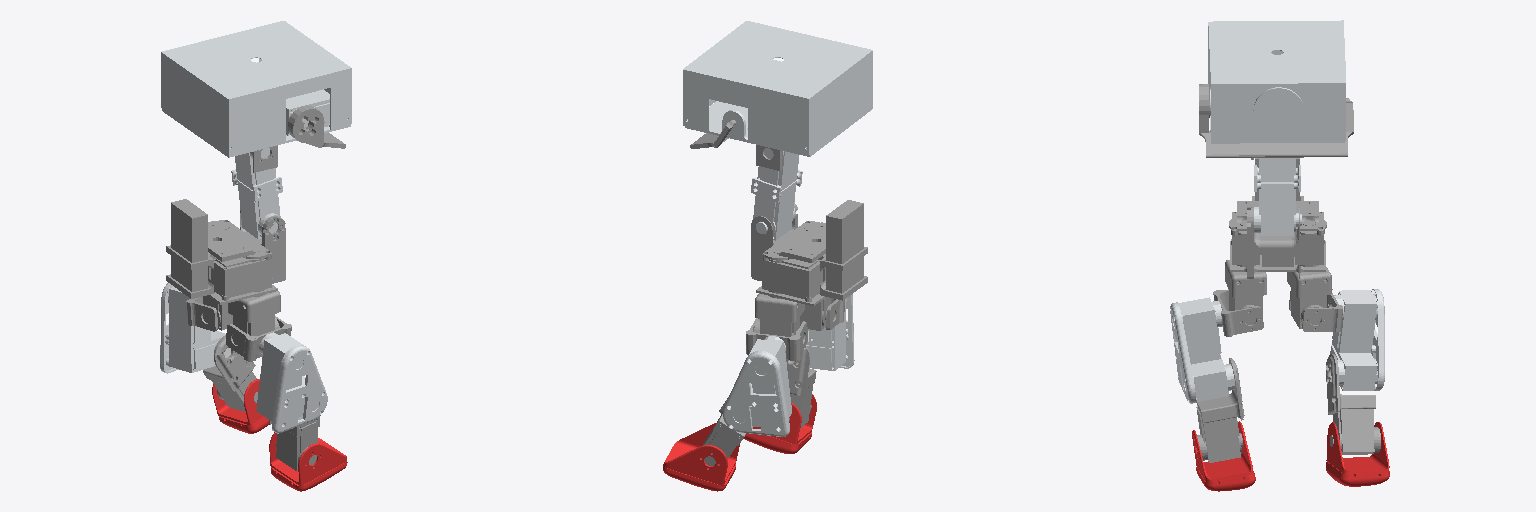
robot.urdf — robot_:
<?xml version="1.0" encoding="utf-8"?>
<!-- Generated by OSURDF v2. Model license is defined by the model owner, not by the exporter. -->
<robot name="robot_">
  <link name="base_link">
    <inertial>
      <origin xyz="-0.0027981325996002671 0.00014366931530087473 0.020069550441856793" rpy="0 0 0" />
      <mass value="0.23252883642757233" />
      <inertia ixx="0.00016455911480864373" ixy="1.7734433291054808E-06" ixz="2.2600997268290155E-05" iyy="0.00012851851896382029" iyz="2.3433907342119782E-07" izz="0.00019694489770403131" />
    </inertial>
    <visual name="visual_0">
      <origin xyz="0 0 0" rpy="0 0 0" />
      <geometry>
        <mesh filename="package://microdick/meshes/visual/base_link.STL" />
      </geometry>
      <material name="material_b2b2b2ff_abf4588548db">
        <color rgba="0.69803999999999999 0.69803999999999999 0.69803999999999999 1" />
      </material>
    </visual>
    <collision name="collision_0">
      <origin xyz="0 0 0" rpy="0 0 0" />
      <geometry>
        <mesh filename="package://microdick/meshes/collision/base_link.STL" />
      </geometry>
    </collision>
  </link>
  <link name="neck">
    <inertial>
      <origin xyz="-0.0037149873663866462 -0.01837873449275202 -0.034434216391090185" rpy="0 0 0" />
      <mass value="0.16015479479011116" />
      <inertia ixx="0.00012488668602107669" ixy="2.2244147246690693E-13" ixz="-1.1395195967814288E-05" iyy="0.00011949454386734541" iyz="-6.2640299665310623E-14" izz="2.0494007123164777E-05" />
    </inertial>
    <visual name="visual_0">
      <origin xyz="0 0 0" rpy="0 0 0" />
      <geometry>
        <mesh filename="package://microdick/meshes/visual/neck.STL" />
      </geometry>
      <material name="material_e5eaedff_d3877c316fea">
        <color rgba="0.89803921568627454 0.91764705882352937 0.92941176470588238 1" />
      </material>
    </visual>
    <collision name="collision_0">
      <origin xyz="0 0 0" rpy="0 0 0" />
      <geometry>
        <mesh filename="package://microdick/meshes/collision/neck.STL" />
      </geometry>
    </collision>
  </link>
  <link name="new_link_4">
    <inertial>
      <origin xyz="-0.0091171086545103197 0.00098361301669069867 0.017456400791831819" rpy="0 0 0" />
      <mass value="0.0026892035488556569" />
      <inertia ixx="8.5943028053864606E-07" ixy="2.0643432918826176E-08" ixz="2.0043519259470153E-08" iyy="1.0485471039865417E-06" iyz="-2.1624253034052715E-09" izz="4.4522135962112589E-07" />
    </inertial>
    <visual name="visual_0">
      <origin xyz="0 0 0" rpy="0 0 0" />
      <geometry>
        <mesh filename="package://microdick/meshes/visual/new_link_4.STL" />
      </geometry>
      <material name="material_b2b2b2ff_cc9c139303fa">
        <color rgba="0.69803921568627447 0.69803921568627447 0.69803921568627447 1" />
      </material>
    </visual>
    <collision name="collision_0">
      <origin xyz="0 0 0" rpy="0 0 0" />
      <geometry>
        <mesh filename="package://microdick/meshes/collision/new_link_4.STL" />
      </geometry>
    </collision>
  </link>
  <link name="new_link_5">
    <inertial>
      <origin xyz="0.018787563017670608 -0.010057010376280325 -0.01221451576685495" rpy="0 0 0" />
      <mass value="0.19226194637422897" />
      <inertia ixx="0.00025131238412232174" ixy="-4.4216178964340382E-06" ixz="-1.5973376526685419E-06" iyy="0.00012624635032599578" iyz="-5.2090163349754212E-05" izz="0.00017321878194592088" />
    </inertial>
    <visual name="visual_0">
      <origin xyz="0 0 0" rpy="0 0 0" />
      <geometry>
        <mesh filename="package://microdick/meshes/visual/new_link_5.STL" />
      </geometry>
      <material name="material_e5eaedff_d3877c316fea">
        <color rgba="0.89803921568627454 0.91764705882352937 0.92941176470588238 1" />
      </material>
    </visual>
    <collision name="collision_0">
      <origin xyz="0 0 0" rpy="0 0 0" />
      <geometry>
        <mesh filename="package://microdick/meshes/collision/new_link_5.STL" />
      </geometry>
    </collision>
  </link>
  <link name="new_link_3">
    <inertial>
      <origin xyz="0.017590903899450838 0.018042256564000173 0.047752548471032899" rpy="0 0 0" />
      <mass value="0.0091276342313920018" />
      <inertia ixx="1.6099569373546537E-05" ixy="-1.2360176018383118E-06" ixz="-2.0380990797062423E-06" iyy="1.6438879942538967E-05" iyz="-2.0132393040382824E-06" izz="2.9634152319143943E-06" />
    </inertial>
    <visual name="visual_0">
      <origin xyz="0 0 0" rpy="0 0 0" />
      <geometry>
        <mesh filename="package://microdick/meshes/visual/new_link_3.STL" />
      </geometry>
      <material name="material_b2b2b2ff_cc9c139303fa">
        <color rgba="0.69803921568627447 0.69803921568627447 0.69803921568627447 1" />
      </material>
    </visual>
    <collision name="collision_0">
      <origin xyz="0 0 0" rpy="0 0 0" />
      <geometry>
        <mesh filename="package://microdick/meshes/collision/new_link_3.STL" />
      </geometry>
    </collision>
  </link>
  <link name="new_link_1">
    <inertial>
      <origin xyz="0.00051086020121493547 6.0033525067504367E-06 0.025212622594666605" rpy="0 0 0" />
      <mass value="0.083260385079896873" />
      <inertia ixx="1.7452236631295005E-05" ixy="5.8182705703960523E-07" ixz="-5.7762099055078847E-07" iyy="2.0612043895591682E-05" iyz="9.652187023765087E-08" izz="1.038025911878853E-05" />
    </inertial>
    <visual name="visual_0">
      <origin xyz="0 0 0" rpy="0 0 0" />
      <geometry>
        <mesh filename="package://microdick/meshes/visual/new_link_1.STL" />
      </geometry>
      <material name="material_b2b2b2ff_cc9c139303fa">
        <color rgba="0.69803921568627447 0.69803921568627447 0.69803921568627447 1" />
      </material>
    </visual>
    <collision name="collision_0">
      <origin xyz="0 0 0" rpy="0 0 0" />
      <geometry>
        <mesh filename="package://microdick/meshes/collision/new_link_1.STL" />
      </geometry>
    </collision>
  </link>
  <link name="new_link">
    <inertial>
      <origin xyz="-0.011940768019766332 -0.021023280358987595 0.0014718896774064683" rpy="0 0 0" />
      <mass value="0.0025473577256657962" />
      <inertia ixx="8.7187164057550288E-07" ixy="4.539614915902574E-08" ixz="1.584623553973534E-08" iyy="3.1779752851824745E-07" iyz="-6.3863852888209887E-09" izz="1.000767202392786E-06" />
    </inertial>
    <visual name="visual_0">
      <origin xyz="0 0 0" rpy="0 0 0" />
      <geometry>
        <mesh filename="package://microdick/meshes/visual/new_link.STL" />
      </geometry>
      <material name="material_b2b2b2ff_cc9c139303fa">
        <color rgba="0.69803921568627447 0.69803921568627447 0.69803921568627447 1" />
      </material>
    </visual>
    <collision name="collision_0">
      <origin xyz="0 0 0" rpy="0 0 0" />
      <geometry>
        <mesh filename="package://microdick/meshes/collision/new_link.STL" />
      </geometry>
    </collision>
  </link>
  <link name="new_link_6">
    <inertial>
      <origin xyz="0.0035494152111712474 0.018833529519988637 0.028483011806818545" rpy="0 0 0" />
      <mass value="0.16337133141234245" />
      <inertia ixx="7.9304211900610487E-05" ixy="5.3596861357863192E-07" ixz="-1.484616651277176E-05" iyy="8.6376886106649239E-05" iyz="-5.7492944118226673E-07" izz="3.5138532424141784E-05" />
    </inertial>
    <visual name="visual_0">
      <origin xyz="0 0 0" rpy="0 0 0" />
      <geometry>
        <mesh filename="package://microdick/meshes/visual/new_link_6.STL" />
      </geometry>
      <material name="material_e5eaedff_d3877c316fea">
        <color rgba="0.89803921568627454 0.91764705882352937 0.92941176470588238 1" />
      </material>
    </visual>
    <collision name="collision_0">
      <origin xyz="0 0 0" rpy="0 0 0" />
      <geometry>
        <mesh filename="package://microdick/meshes/collision/new_link_6.STL" />
      </geometry>
    </collision>
  </link>
  <link name="new_link_7">
    <inertial>
      <origin xyz="0.0051398005486567033 0.041777170511661632 -0.016770834000613938" rpy="0 0 0" />
      <mass value="0.082300356130059635" />
      <inertia ixx="2.1959569252876703E-05" ixy="-1.4042405684559051E-06" ixz="2.0245805881604581E-07" iyy="1.0567856613819219E-05" iyz="1.6669949988952382E-06" izz="1.8366094468213481E-05" />
    </inertial>
    <visual name="visual_0">
      <origin xyz="0 0 0" rpy="0 0 0" />
      <geometry>
        <mesh filename="package://microdick/meshes/visual/new_link_7.STL" />
      </geometry>
      <material name="material_b2b2b2ff_cc9c139303fa">
        <color rgba="0.69803921568627447 0.69803921568627447 0.69803921568627447 1" />
      </material>
    </visual>
    <collision name="collision_0">
      <origin xyz="0 0 0" rpy="0 0 0" />
      <geometry>
        <mesh filename="package://microdick/meshes/collision/new_link_7.STL" />
      </geometry>
    </collision>
  </link>
  <link name="new_link_8">
    <inertial>
      <origin xyz="0.019697669859905384 0.011411206038890009 -0.018071398580237749" rpy="0 0 0" />
      <mass value="0.01830472704709047" />
      <inertia ixx="5.4766022823280582E-06" ixy="2.038844058731755E-09" ixz="-6.4360290809970619E-08" iyy="4.4980169150005137E-06" iyz="6.2324709112049992E-08" izz="7.4026831549939516E-06" />
    </inertial>
    <visual name="visual_0">
      <origin xyz="0 0 0" rpy="0 0 0" />
      <geometry>
        <mesh filename="package://microdick/meshes/visual/new_link_8.STL" />
      </geometry>
      <material name="material_f74242ff_5830e916cd1d">
        <color rgba="0.96862745098039216 0.25882352941176467 0.25882352941176467 1" />
      </material>
    </visual>
    <collision name="collision_0">
      <origin xyz="0 0 0" rpy="0 0 0" />
      <geometry>
        <mesh filename="package://microdick/meshes/collision/new_link_8.STL" />
      </geometry>
    </collision>
  </link>
  <link name="new_link_2">
    <inertial>
      <origin xyz="-7.6615268947859139E-05 0.00069551313358129363 -0.025212622594666556" rpy="0 0 0" />
      <mass value="0.083260385079896873" />
      <inertia ixx="2.0515786318883804E-05" ixy="7.9759531952071505E-07" ixz="-1.3993551121970935E-07" iyy="1.7549361094101628E-05" iyz="5.8166634475003631E-07" izz="1.0381126004887272E-05" />
    </inertial>
    <visual name="visual_0">
      <origin xyz="0 0 0" rpy="0 0 0" />
      <geometry>
        <mesh filename="package://microdick/meshes/visual/new_link_2.STL" />
      </geometry>
      <material name="material_b2b2b2ff_cc9c139303fa">
        <color rgba="0.69803921568627447 0.69803921568627447 0.69803921568627447 1" />
      </material>
    </visual>
    <collision name="collision_0">
      <origin xyz="0 0 0" rpy="0 0 0" />
      <geometry>
        <mesh filename="package://microdick/meshes/collision/new_link_2.STL" />
      </geometry>
    </collision>
  </link>
  <link name="new_link_10">
    <inertial>
      <origin xyz="0.0119658840507261 0.018376719641018724 0.0011731083809229659" rpy="0 0 0" />
      <mass value="0.0025473577256657962" />
      <inertia ixx="8.7113095401942306E-07" ixy="-4.5713735059755527E-08" ixz="-1.2453246742521924E-08" iyy="3.1779752851824772E-07" iyz="-3.4424849182492932E-09" izz="1.0015078889488646E-06" />
    </inertial>
    <visual name="visual_0">
      <origin xyz="0 0 0" rpy="0 0 0" />
      <geometry>
        <mesh filename="package://microdick/meshes/visual/new_link_10.STL" />
      </geometry>
      <material name="material_b2b2b2ff_cc9c139303fa">
        <color rgba="0.69803921568627447 0.69803921568627447 0.69803921568627447 1" />
      </material>
    </visual>
    <collision name="collision_0">
      <origin xyz="0 0 0" rpy="0 0 0" />
      <geometry>
        <mesh filename="package://microdick/meshes/collision/new_link_10.STL" />
      </geometry>
    </collision>
  </link>
  <link name="new_link_11">
    <inertial>
      <origin xyz="0.0036887495914026402 0.018833532436240474 -0.028639958803113111" rpy="0 0 0" />
      <mass value="0.16337135457744897" />
      <inertia ixx="8.0557348935535151E-05" ixy="5.6145669811677015E-07" ixz="1.2786450549270194E-05" iyy="8.6376898359730465E-05" iyz="5.5005231238290172E-07" izz="3.3885427148101169E-05" />
    </inertial>
    <visual name="visual_0">
      <origin xyz="0 0 0" rpy="0 0 0" />
      <geometry>
        <mesh filename="package://microdick/meshes/visual/new_link_11.STL" />
      </geometry>
      <material name="material_e5eaedff_d3877c316fea">
        <color rgba="0.89803921568627454 0.91764705882352937 0.92941176470588238 1" />
      </material>
    </visual>
    <collision name="collision_0">
      <origin xyz="0 0 0" rpy="0 0 0" />
      <geometry>
        <mesh filename="package://microdick/meshes/collision/new_link_11.STL" />
      </geometry>
    </collision>
  </link>
  <link name="new_link_12">
    <inertial>
      <origin xyz="0.023911581862119946 -0.034631084784762206 -0.015738886433426968" rpy="0 0 0" />
      <mass value="0.082300356130059635" />
      <inertia ixx="1.8201940011463665E-05" ixy="5.4857868302831207E-06" ixz="8.6654568781232631E-07" iyy="1.4044626629204361E-05" iyz="-1.2550183041849392E-06" izz="1.8366094468225902E-05" />
    </inertial>
    <visual name="visual_0">
      <origin xyz="0 0 0" rpy="0 0 0" />
      <geometry>
        <mesh filename="package://microdick/meshes/visual/new_link_12.STL" />
      </geometry>
      <material name="material_b2b2b2ff_cc9c139303fa">
        <color rgba="0.69803921568627447 0.69803921568627447 0.69803921568627447 1" />
      </material>
    </visual>
    <collision name="collision_0">
      <origin xyz="0 0 0" rpy="0 0 0" />
      <geometry>
        <mesh filename="package://microdick/meshes/collision/new_link_12.STL" />
      </geometry>
    </collision>
  </link>
  <link name="new_link_13">
    <inertial>
      <origin xyz="0.019697676987184831 0.0036366447049168693 0.021061004010848927" rpy="0 0 0" />
      <mass value="0.018304727098682541" />
      <inertia ixx="5.4766023492788044E-06" ixy="-2.2727403788964387E-08" ixz="6.0246559463471268E-08" iyy="4.9664806848798127E-06" iyz="-1.0701200341288532E-06" izz="6.9342196115380791E-06" />
    </inertial>
    <visual name="visual_0">
      <origin xyz="0 0 0" rpy="0 0 0" />
      <geometry>
        <mesh filename="package://microdick/meshes/visual/new_link_13.STL" />
      </geometry>
      <material name="material_f74242ff_5830e916cd1d">
        <color rgba="0.96862745098039216 0.25882352941176467 0.25882352941176467 1" />
      </material>
    </visual>
    <collision name="collision_0">
      <origin xyz="0 0 0" rpy="0 0 0" />
      <geometry>
        <mesh filename="package://microdick/meshes/collision/new_link_13.STL" />
      </geometry>
    </collision>
  </link>
  <joint name="neck" type="continuous">
    <parent link="base_link" />
    <child link="neck" />
    <origin xyz="0.034535000000000003 -0.018651999999999998 0.048166" rpy="3.1415999999999999 0 0" />
    <axis xyz="0 -1 0" />
    <limit effort="0.52000000000000002" velocity="10.786" />
  </joint>
  <joint name="new_link_4_joint" type="continuous">
    <parent link="neck" />
    <child link="new_link_4" />
    <origin xyz="-0.0074370503510710062 -0.03800000000000002 -0.068934016685308797" rpy="-1.5707963267948912 -1.4633255011308297 0" />
    <axis xyz="0 0 -1" />
    <limit effort="0.52000000000000002" velocity="10.786134777324955" />
  </joint>
  <joint name="new_link_5_joint" type="revolute">
    <parent link="new_link_4" />
    <child link="new_link_5" />
    <origin xyz="-0.019884742707555692 0.0021440636508303079 0.01893404611670773" rpy="-1.5707963267948963 0 3.0341218279257265" />
    <axis xyz="1 0 0" />
    <limit lower="-1.2032870908578337" upper="1.2401738619269311" effort="0.52000000000000002" velocity="10.786134777324955" />
  </joint>
  <joint name="new_link_3_joint" type="revolute">
    <parent link="new_link_5" />
    <child link="new_link_3" />
    <origin xyz="0.017500000000000002 -0.062275527412047213 -0.01632272885225361" rpy="0 1.5523529412566588 1.570796326794887" />
    <axis xyz="-0.00012348260631945415 0 0.99999999237602299" />
    <limit lower="-0.23574337146169544" upper="0.20058894153688822" effort="0.52000000000000002" velocity="10.786134777324955" />
  </joint>
  <joint name="leftleg" type="continuous">
    <parent link="base_link" />
    <child link="new_link_1" />
    <origin xyz="0.013542344800475004 -0.024652274829389455 -0.0025000000000000022" rpy="3.1415926535897931 0 0" />
    <axis xyz="0 0 -1" />
    <limit effort="0.52000000000000002" velocity="10.786134777324955" />
  </joint>
  <joint name="new_joint" type="continuous">
    <parent link="new_link_1" />
    <child link="new_link" />
    <origin xyz="0.018623990643306776 -0.0032197783336993663 0.037134034746975568" rpy="0 0 -1.7472784828550028" />
    <axis xyz="0 1 0" />
    <limit effort="0.52000000000000002" velocity="10.786134777324955" />
  </joint>
  <joint name="new_link_6_joint" type="continuous">
    <parent link="new_link" />
    <child link="new_link_6" />
    <origin xyz="-0.019858226468510473 -0.018419545563032935 0.0024431164108573572" rpy="0.11901569402904734 0 1.5707963267948946" />
    <axis xyz="0 1 0" />
    <limit effort="0.52000000000000002" velocity="10.786134777324955" />
  </joint>
  <joint name="new_link_7_joint" type="revolute">
    <parent link="new_link_6" />
    <child link="new_link_7" />
    <origin xyz="0.019987714436830339 0 0.046132320716370592" rpy="1.5707963267948966 -0.031990203861751124 0" />
    <axis xyz="0 0 -1" />
    <limit lower="-0.46992393453931403" upper="1.4324849501342607" effort="0.52000000000000002" velocity="10.786134777324955" />
  </joint>
  <joint name="new_link_8_joint" type="revolute">
    <parent link="new_link_7" />
    <child link="new_link_8" />
    <origin xyz="0.0066005381969742594 0.053804640658963537 0.0024000000000002214" rpy="1.6916544109352909 1.5707963267948966 0" />
    <axis xyz="1 0 0" />
    <limit lower="-0.96255009842129624" upper="1.1318450039716517" effort="0.52000000000000002" velocity="10.786134777324955" />
  </joint>
  <joint name="rightleg" type="continuous">
    <parent link="base_link" />
    <child link="new_link_2" />
    <origin xyz="0.013542344800474559 0.025347725170608845 -0.0025000000000000508" rpy="0 0 -1.5707963267948966" />
    <axis xyz="0 0 1" />
    <limit effort="0.52000000000000002" velocity="10.786134777324955" />
  </joint>
  <joint name="new_link_10_joint" type="continuous">
    <parent link="new_link_2" />
    <child link="new_link_10" />
    <origin xyz="0.0050557063038292535 -0.019660616312043633 -0.037199999999986202" rpy="3.1415926535897931 0 -2.8948230610259169" />
    <axis xyz="0 -1 0" />
    <limit effort="0.52000000000000002" velocity="10.786134777324955" />
  </joint>
  <joint name="new_link_11_joint" type="continuous">
    <parent link="new_link_10" />
    <child link="new_link_11" />
    <origin xyz="0.019899493381819428 0.019544454773555042 0.0020045454948496716" rpy="3.0456809537441636 0 1.5707963267948966" />
    <axis xyz="0 1 0" />
    <limit effort="0.52000000000000002" velocity="10.786134777324955" />
  </joint>
  <joint name="new_link_12_joint" type="revolute">
    <parent link="new_link_11" />
    <child link="new_link_12" />
    <origin xyz="0.019376374777016481 -0.00099999999993355404 -0.047020944380387841" rpy="1.5707963267949006 0.077308500776178693 0" />
    <axis xyz="0 0 -1" />
    <limit lower="-0.95336432748638877" upper="0.94904455718729608" effort="0.52000000000000002" velocity="10.786134777324955" />
  </joint>
  <joint name="new_link_13_joint" type="revolute">
    <parent link="new_link_12" />
    <child link="new_link_13" />
    <origin xyz="0.030795623342172673 -0.04460122849169243 0.0035000000000041664" rpy="0.96649784943185713 1.5707963267948966 0" />
    <axis xyz="1 0 0" />
    <limit lower="-1.3547891190972214" upper="0.73960598329556815" effort="0.52000000000000002" velocity="10.786134777324955" />
  </joint>
</robot>

--- Render facts (derived) ---
3 views of the same robot in one strip: view 1: azimuth 30°, elevation 25°; view 2: azimuth 150°, elevation 25°; view 3: azimuth 270°, elevation 25° (orthographic).
Model robot_ with 15 links and 14 joints (6 revolute, 8 continuous), rooted at base_link, posed all joints at 0.
Links seen in each view (by area): view 1: new_link_5, base_link, new_link_6, new_link_11, neck, new_link_8, new_link_12, new_link_1, new_link_13, new_link_3, new_link_7, new_link (+1 smaller); view 2: new_link_5, base_link, new_link_11, neck, new_link_13, new_link_6, new_link_2, new_link_8, new_link_7, new_link_12, new_link_10, new_link_1; view 3: new_link_5, base_link, new_link_6, new_link_11, neck, new_link_12, new_link_3, new_link_7, new_link_13, new_link_8, new_link_2, new_link_1 (+2 smaller).
Link boxes in pixels (<box>): new_link_5: <box>161,21,351,157</box>; base_link: <box>166,199,285,304</box>; new_link_6: <box>256,332,327,433</box>; new_link_11: <box>160,283,230,373</box>; neck: <box>231,148,282,239</box>; new_link_8: <box>269,432,347,491</box>; new_link_12: <box>203,335,257,411</box>; new_link_1: <box>228,291,280,344</box>; new_link_13: <box>212,379,269,433</box>; new_link_3: <box>288,105,345,148</box>; new_link_7: <box>269,416,319,470</box>; new_link: <box>226,316,291,361</box>; new_link_5: <box>683,21,872,156</box>; base_link: <box>751,200,867,305</box>; new_link_11: <box>723,336,791,436</box>; neck: <box>751,148,802,240</box>; new_link_13: <box>663,423,739,491</box>; new_link_6: <box>797,294,854,370</box>; new_link_2: <box>754,293,804,342</box>; new_link_8: <box>743,394,816,453</box>; new_link_7: <box>786,346,816,428</box>; new_link_12: <box>701,395,745,468</box>; new_link_10: <box>746,318,807,361</box>; new_link_1: <box>800,297,834,330</box>; new_link_5: <box>1208,20,1345,143</box>; base_link: <box>1229,158,1326,278</box>; new_link_6: <box>1170,297,1234,403</box>; new_link_11: <box>1330,289,1384,390</box>; neck: <box>1254,158,1301,235</box>; new_link_12: <box>1326,354,1380,454</box>; new_link_3: <box>1199,84,1353,157</box>; new_link_7: <box>1196,358,1244,462</box>; new_link_13: <box>1326,422,1389,486</box>; new_link_8: <box>1192,421,1255,491</box>; new_link_2: <box>1287,267,1331,328</box>; new_link_1: <box>1225,260,1266,328</box>.
Bounding box of the posed robot: 0.139 × 0.1738 × 0.3671 m (x, y, z).
Meshes: 15 distinct files referenced, 15 mesh visuals loaded (15 binary STL).
